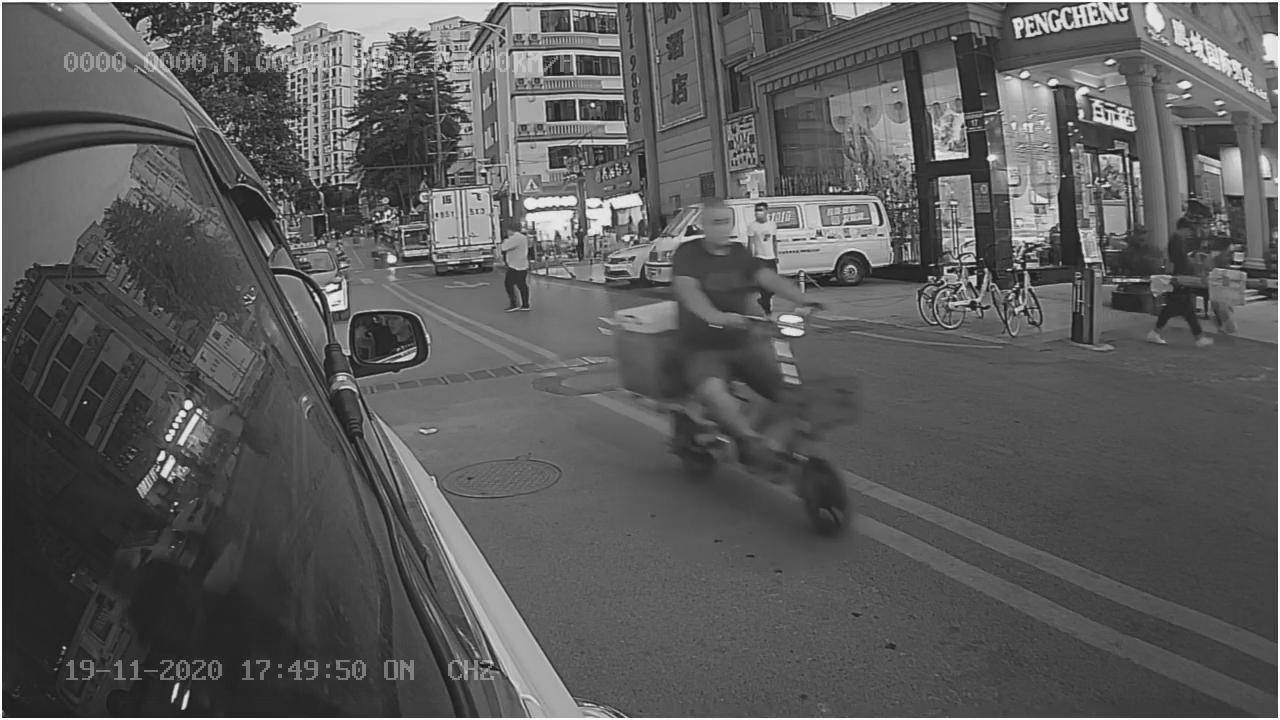person: (662, 194, 757, 340)
